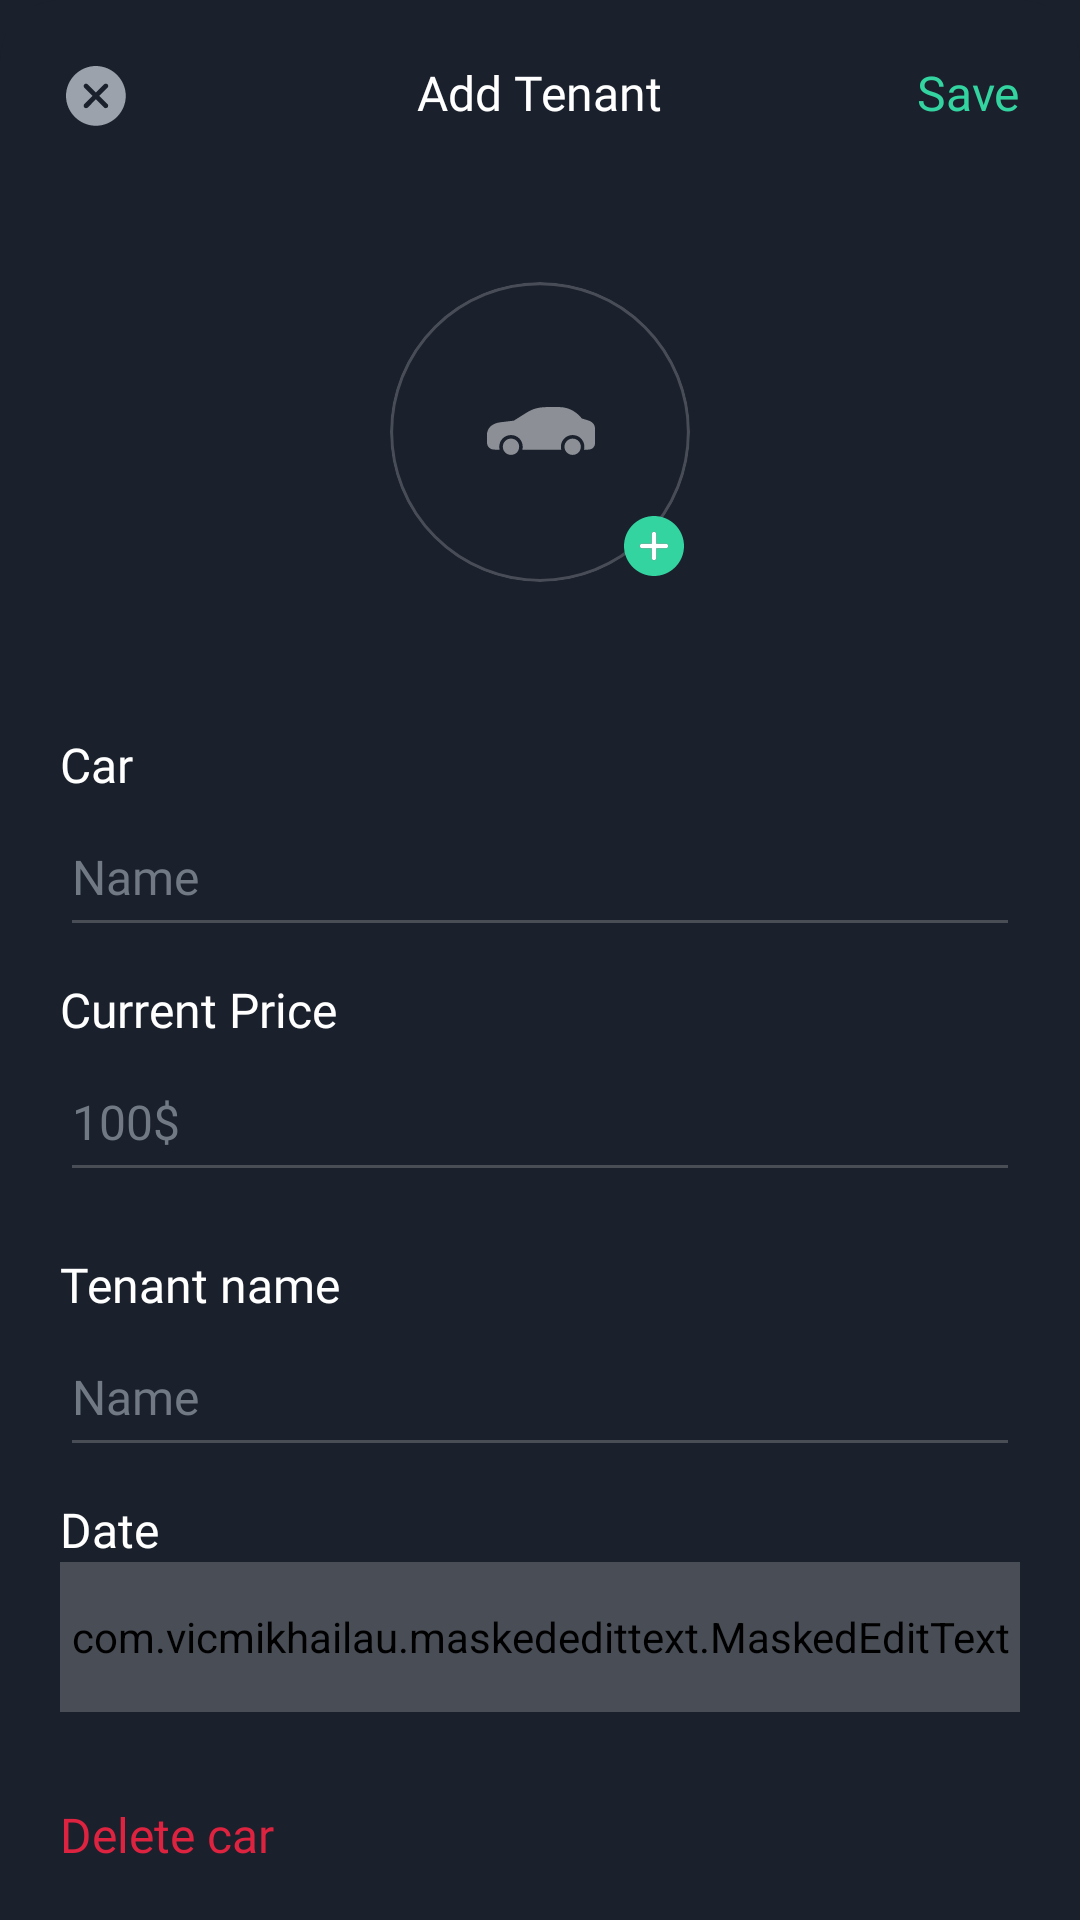

Named icons in this screenshot (1080x1920) and their bounding boxes, [left=x1, top=y1, right=x2, bottom=y2]:
close: [left=66, top=66, right=126, bottom=126]
